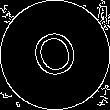O_S: (26, 24, 84, 86)
